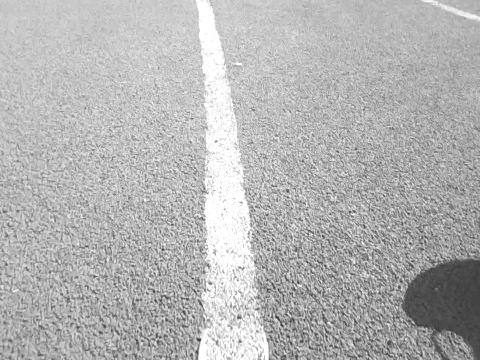Lines: (194, 0, 270, 360)
